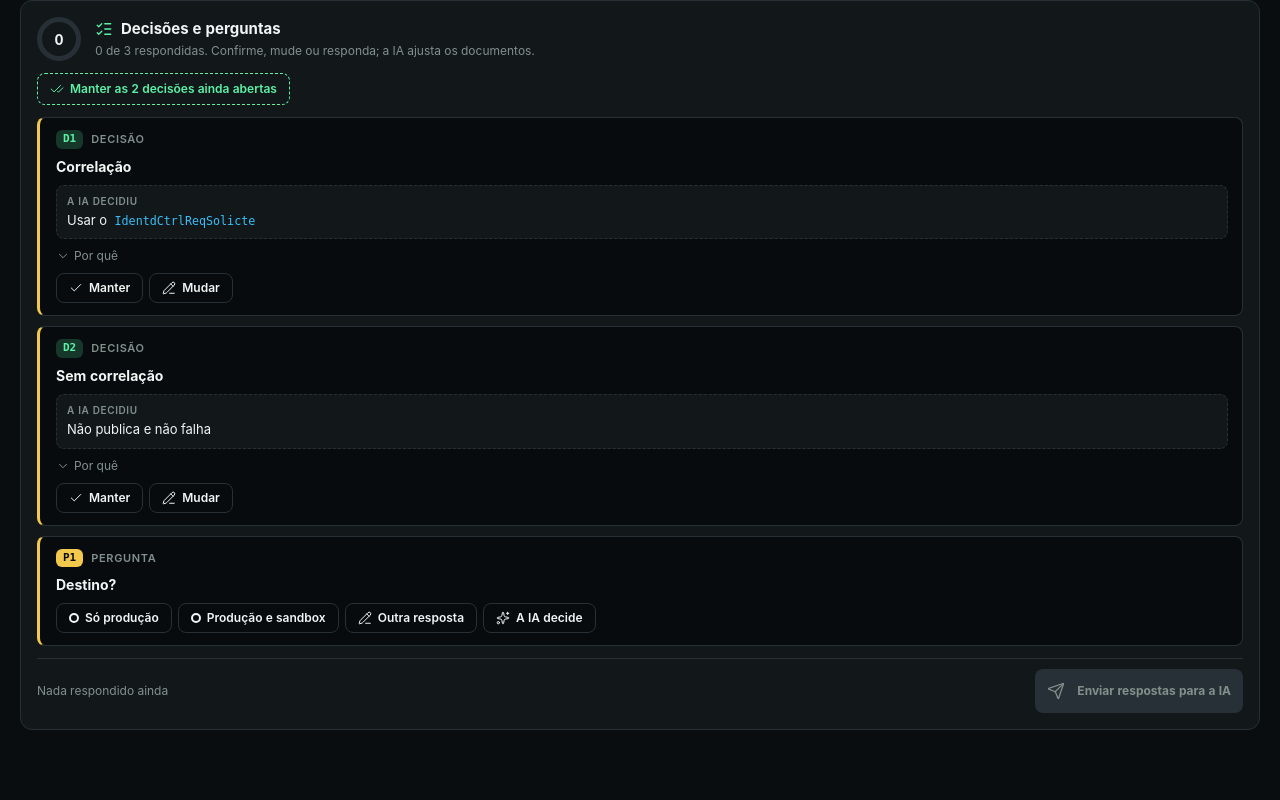
Test: shows the decisions and questions of the documents as cards and sends the answers to the AI
Expected: the heading "Decisões e perguntas" is shown, [95, 19, 281, 38]
Expected: the text "0 de 3 respondidas. Confirme, mude ou responda; a IA ajusta os documentos." is shown, [95, 42, 535, 60]
Click the button "Por quê" below "D1" at (87, 256), box [56, 247, 118, 265]
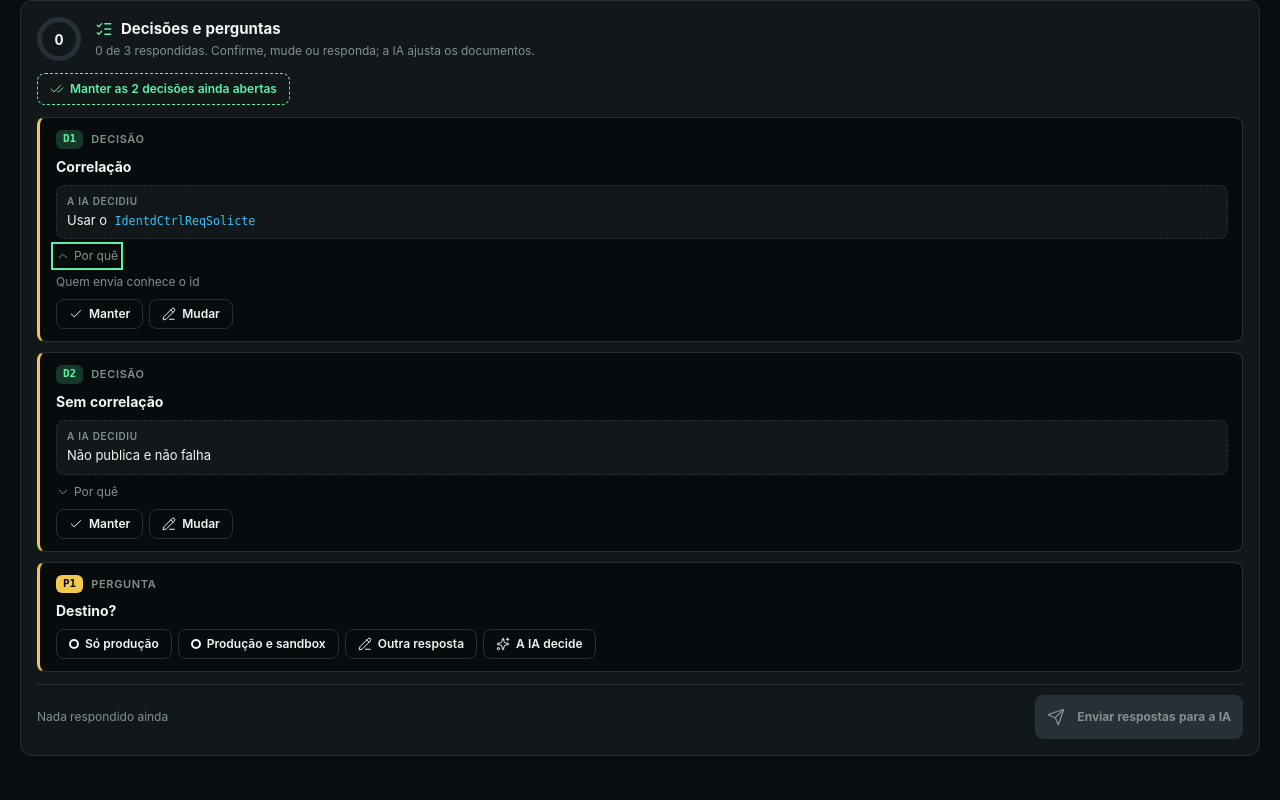
Expected: the button "Enviar respostas para a IA" is disabled, [1035, 695, 1243, 739]
Now the text "Quem envia conhece o id" is shown, box [56, 274, 200, 289]
Click the button "Manter" below "D1" at (100, 314), box [56, 299, 143, 329]
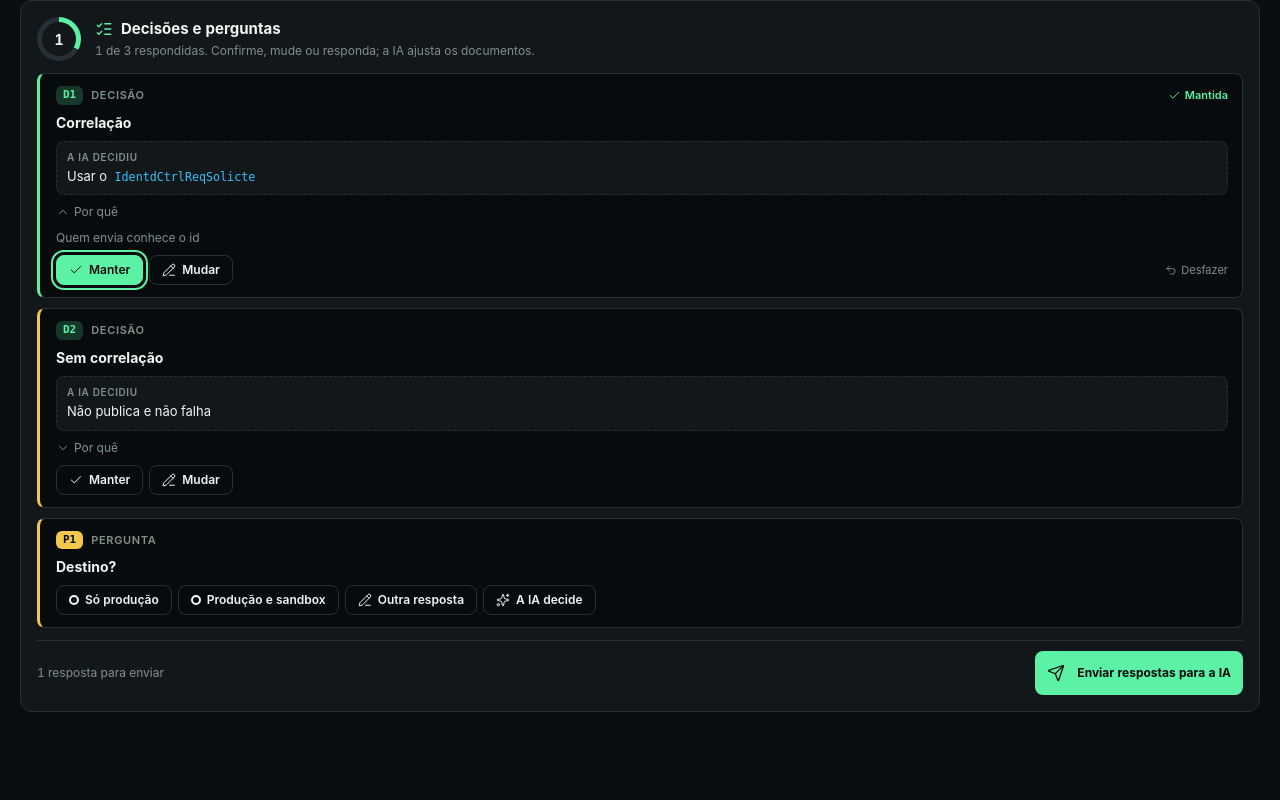
Now the text "Mantida" is shown, box [1168, 87, 1228, 104]
Click the button "Mudar" below "D2" at (191, 480), box [149, 465, 233, 495]
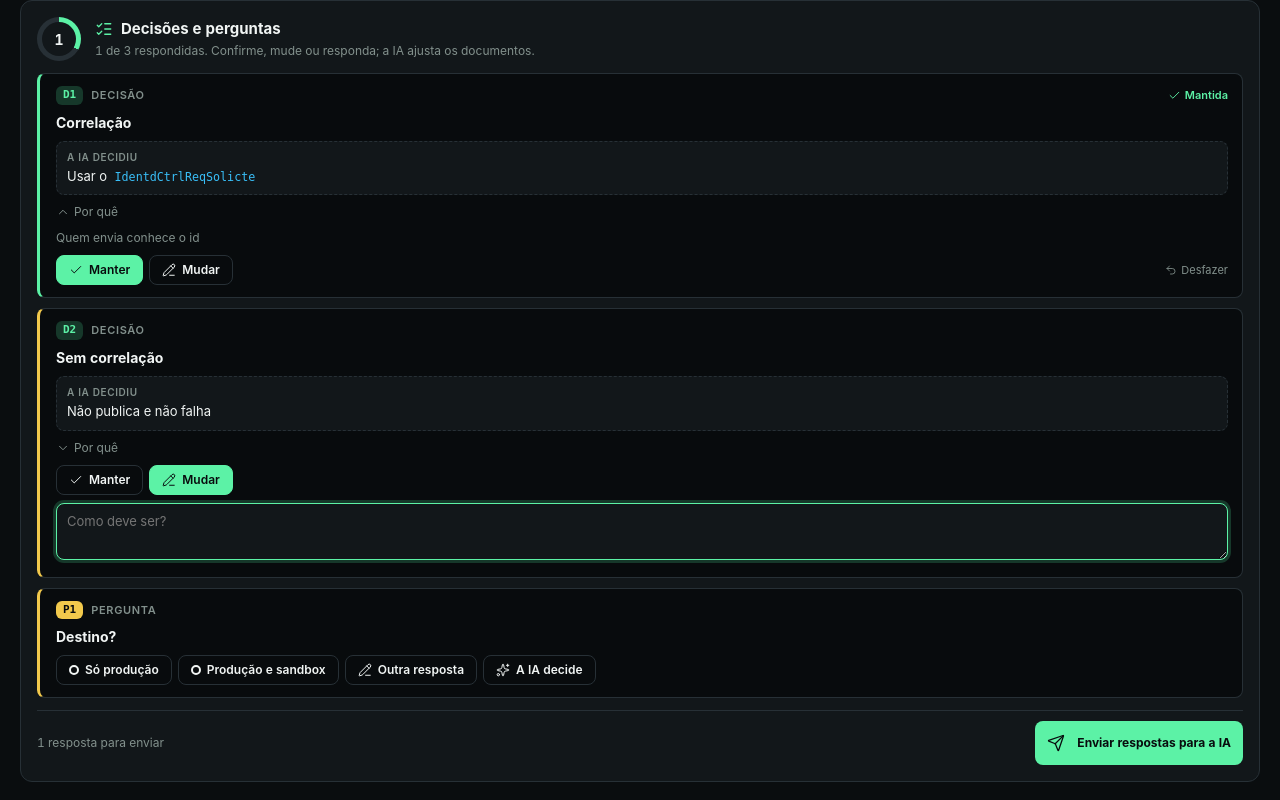
Type "Mandar para a DLQ com alarme" into the text box with placeholder "Como deve ser?" at (642, 531), box [56, 503, 1228, 560]
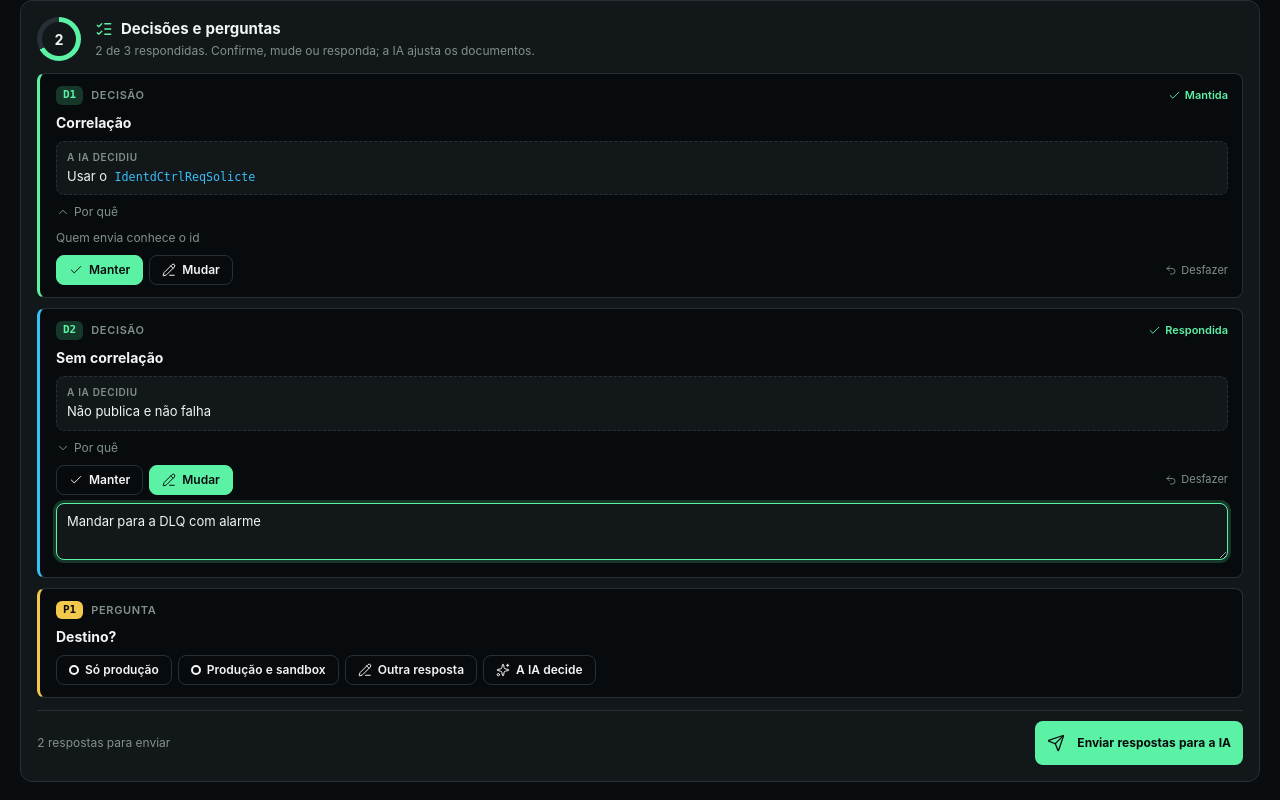
Click the button "Produção e sandbox" at (258, 670), box [178, 655, 339, 685]
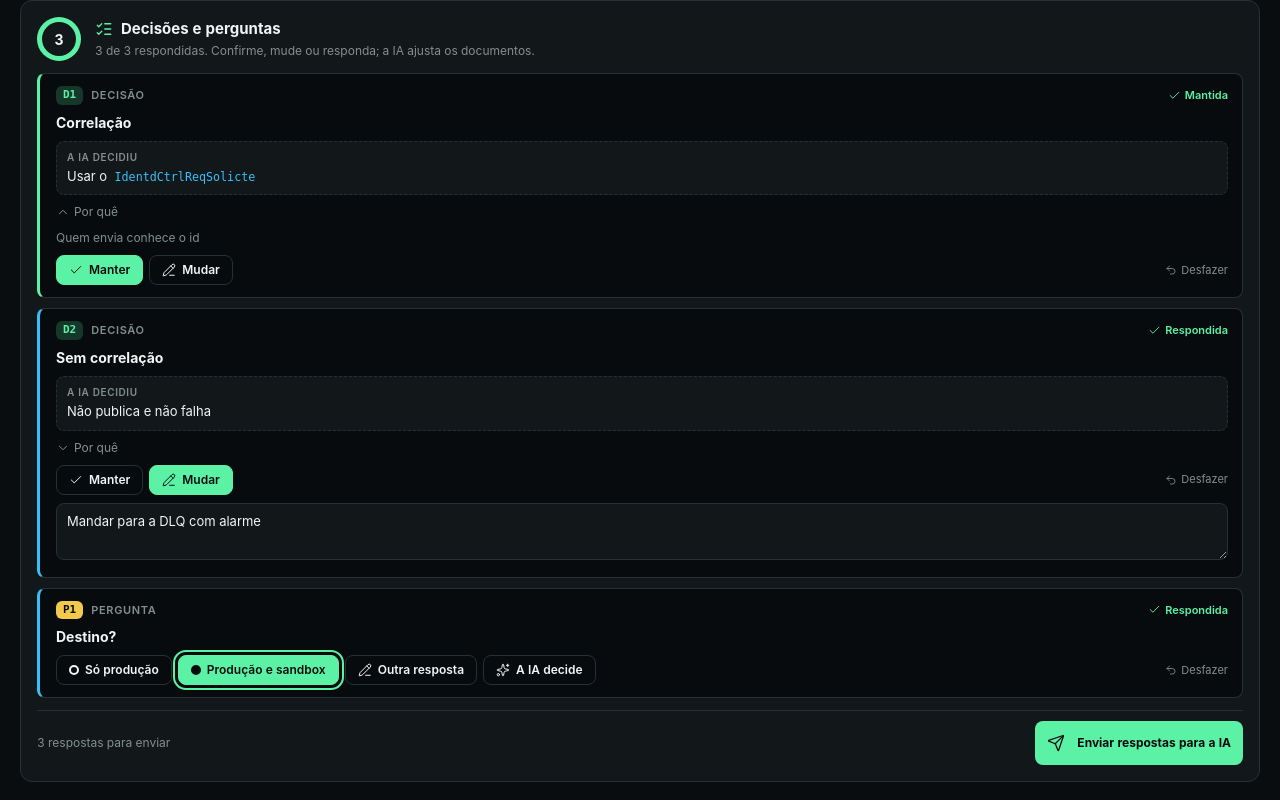
Now the text "3 de 3 respondidas. Confirme, mude ou responda; a IA ajusta os documentos." is shown, box [95, 42, 535, 60]
Now the text "3 respostas para enviar" is shown, box [37, 734, 170, 752]
Click the button "Enviar respostas para a IA" at (1139, 743), box [1035, 721, 1243, 765]
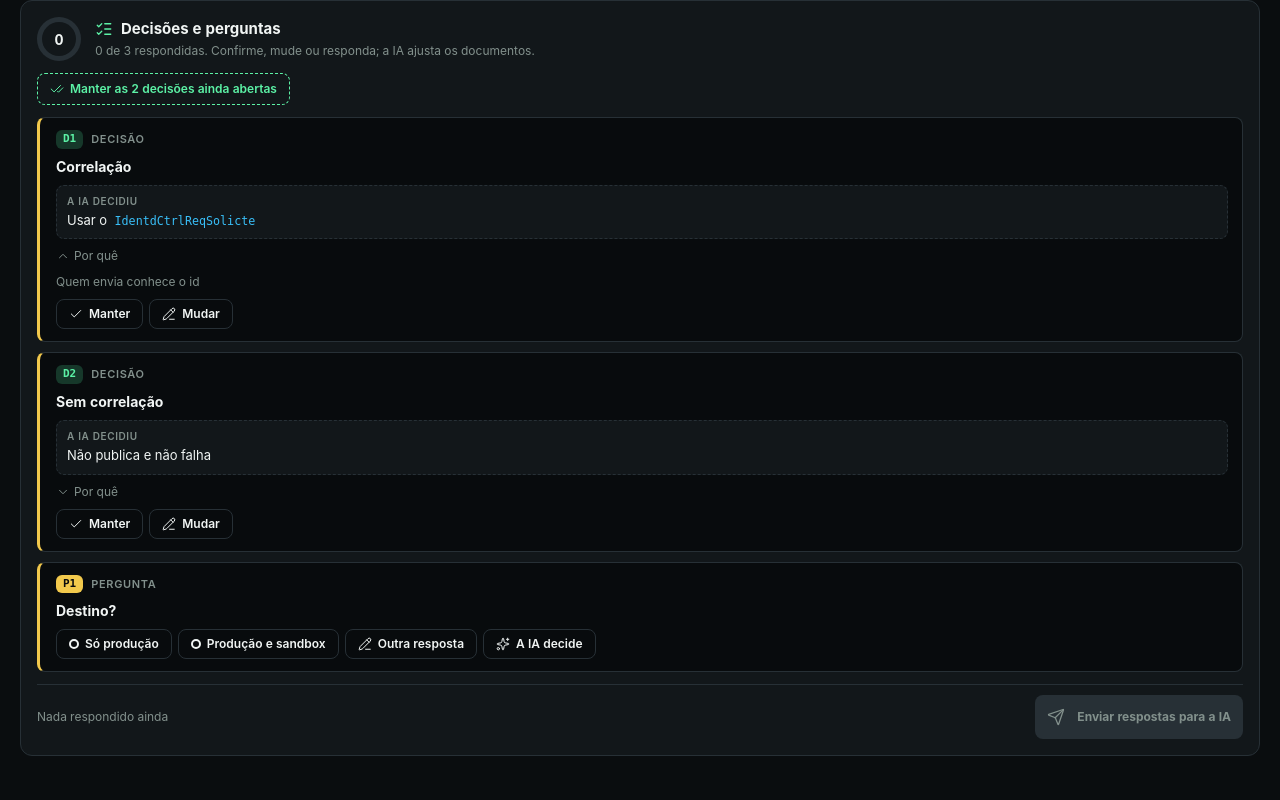
Now the text "0 de 3 respondidas. Confirme, mude ou responda; a IA ajusta os documentos." is shown, box [95, 42, 535, 60]
